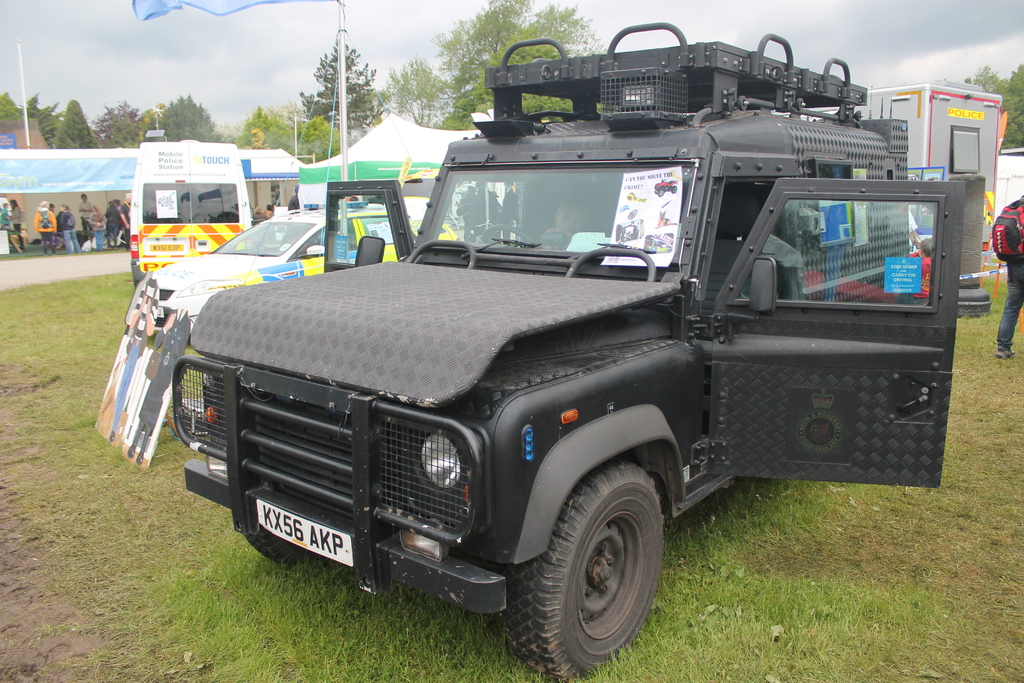Car: (141, 198, 460, 404)
